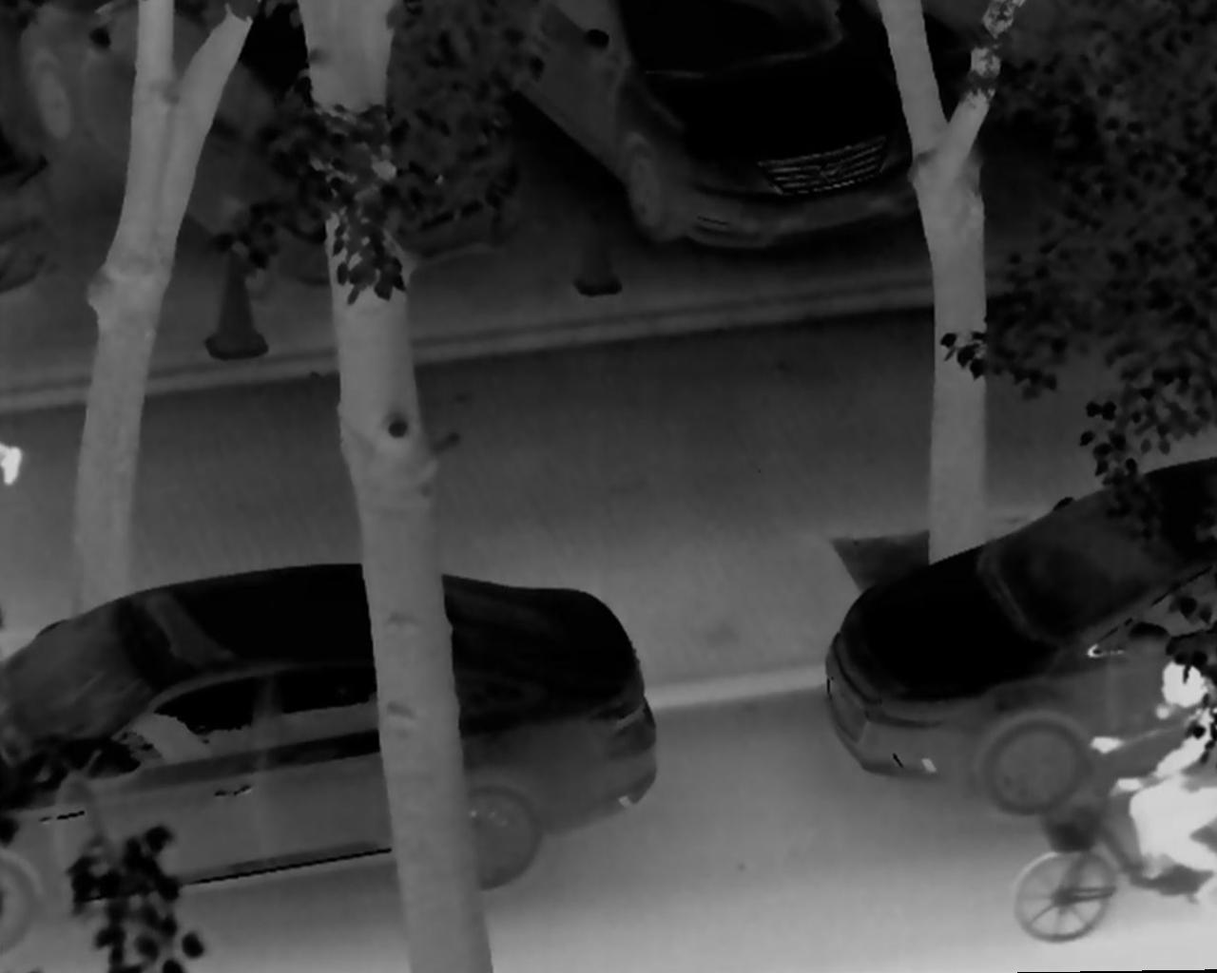person: (1084, 631, 1217, 917)
